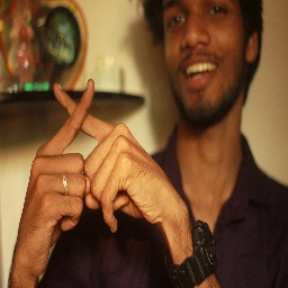X: (25, 74, 139, 180)
